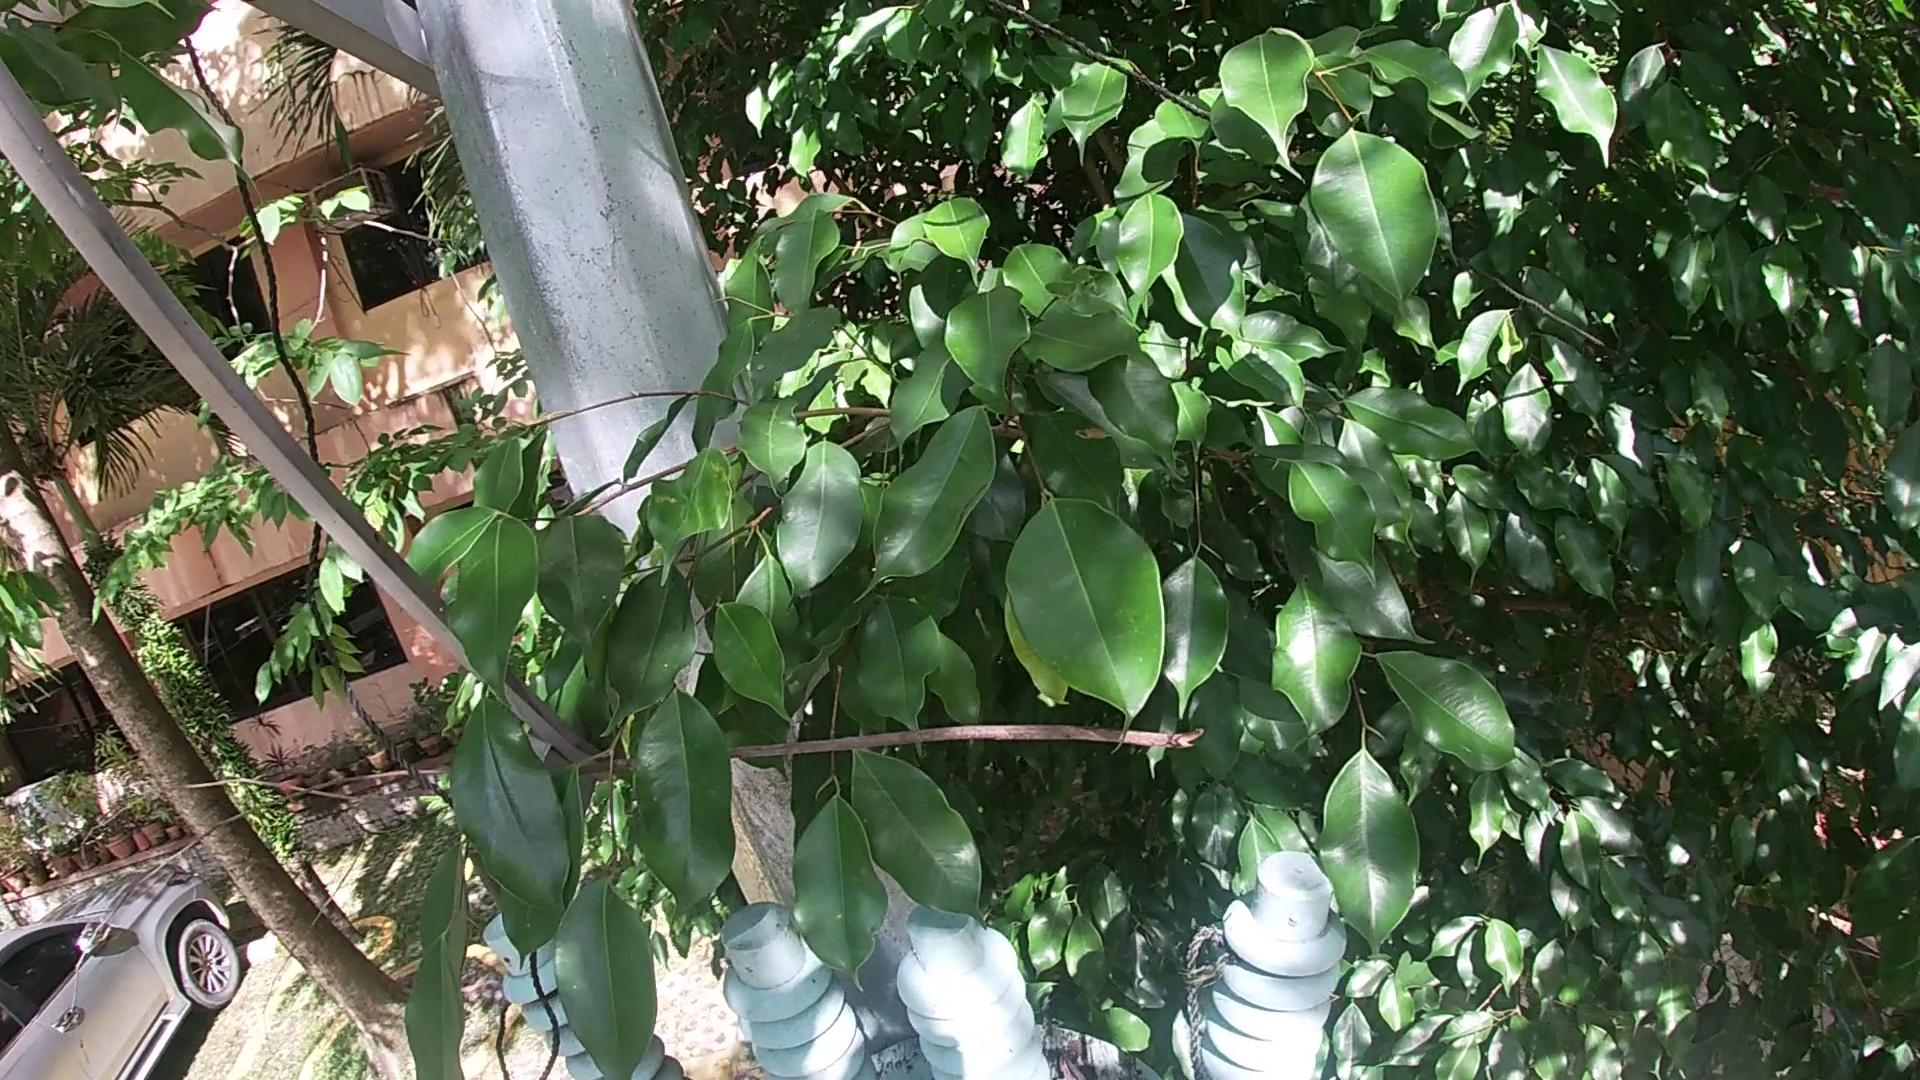tree branch: (1, 674, 1245, 1034), (1044, 1029, 1091, 1080)
